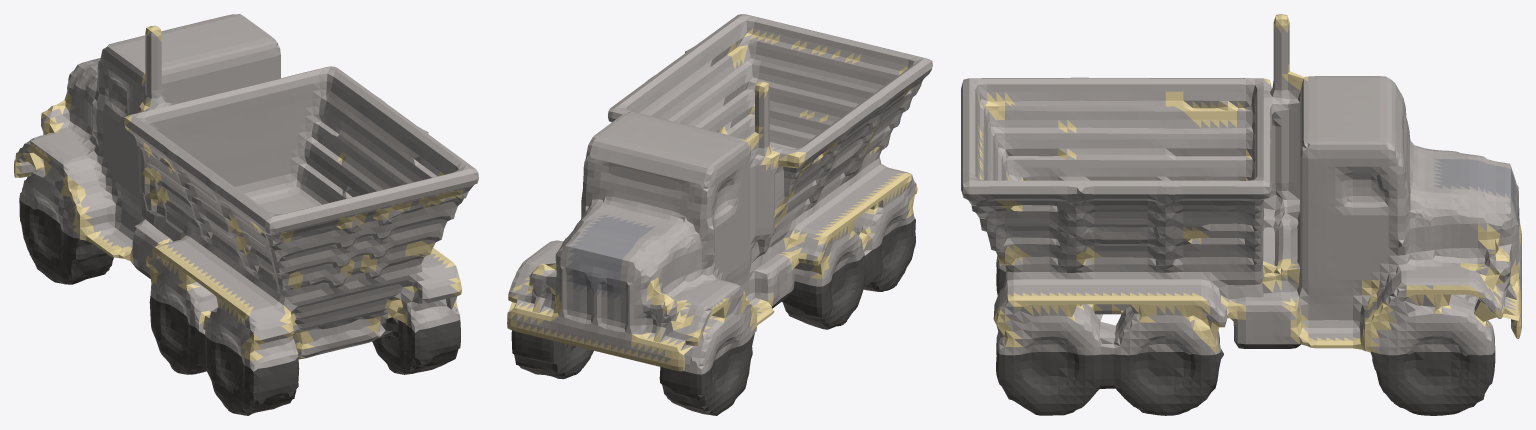
The model's file is unit_mule.glb.
The picture shows the model from 3 angles, left to right: view 1: azimuth 30°, elevation 25°; view 2: azimuth 150°, elevation 25°; view 3: azimuth 270°, elevation 25°; orthographic projection. The views are drawn at different scales.
Parts seen in each view (by area): view 1: Mesh_0.029; view 2: Mesh_0.029; view 3: Mesh_0.029.
Boxes of the visible parts, left/top/right/bottom form: Mesh_0.029: left=14, top=14, right=478, bottom=415; Mesh_0.029: left=507, top=14, right=932, bottom=415; Mesh_0.029: left=961, top=14, right=1521, bottom=415.
Size of the model in its own units: 1.42 by 1.86 by 3.
